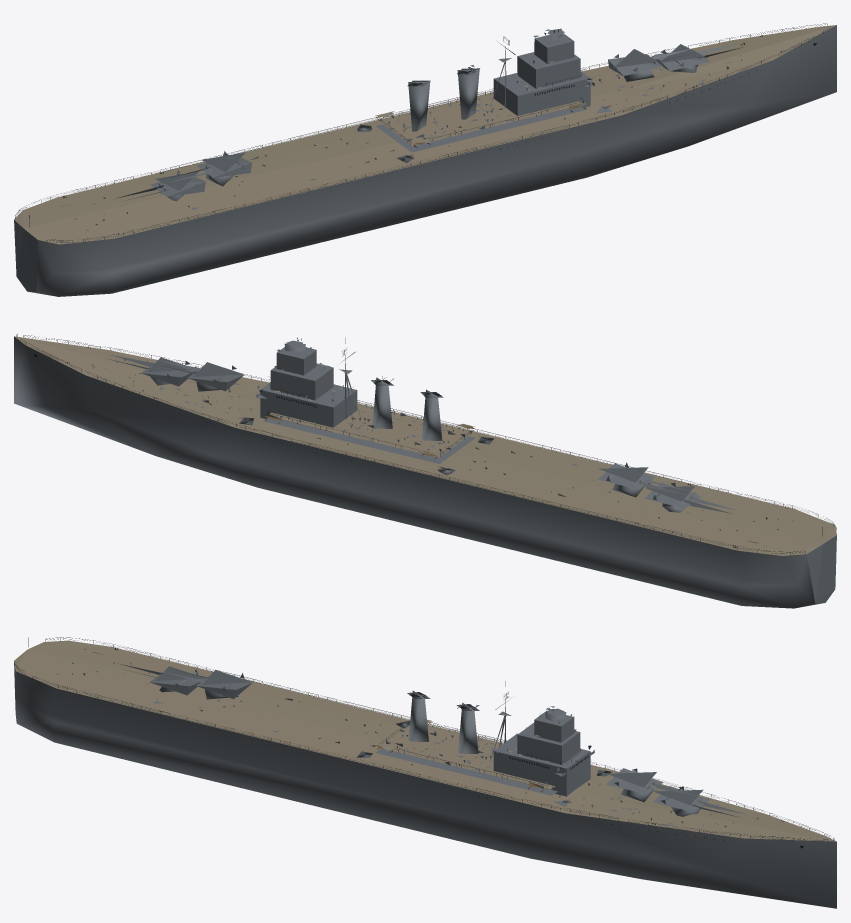
The model's file is hood_lod.glb.
3 views of the same model, one above another, from view 1: azimuth 30°, elevation 25°; view 2: azimuth 150°, elevation 25°; view 3: azimuth 330°, elevation 25° (orthographic).
Parts seen in each view (by area): view 1: hood_lod; view 2: hood_lod; view 3: hood_lod.
Part boxes in pixels (x1,y1,x2,y2): hood_lod: [14, 23, 836, 296]; hood_lod: [14, 334, 836, 608]; hood_lod: [14, 637, 836, 908].
Bounding box in the file's own units: 262 × 45.96 × 31.78.
